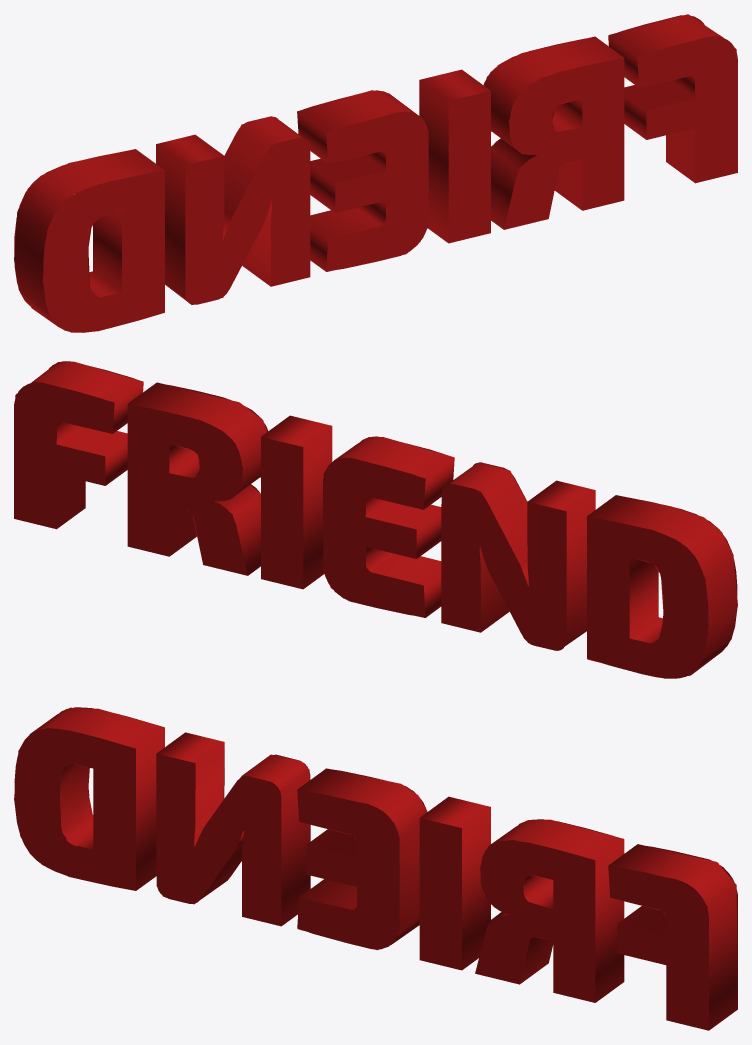
File: friend.fbx
3 views of the same model, one above another, from view 1: azimuth 30°, elevation 25°; view 2: azimuth 150°, elevation 25°; view 3: azimuth 330°, elevation 25° (orthographic).
Visible parts, largest first — view 1: Text; view 2: Text; view 3: Text.
Part boxes in pixels (x1=…): Text: x1=14, y1=14, x2=737, y2=332; Text: x1=14, y1=361, x2=737, y2=678; Text: x1=14, y1=707, x2=737, y2=1030.
Size of the model in its own units: 11.05 by 2.23 by 0.8.
